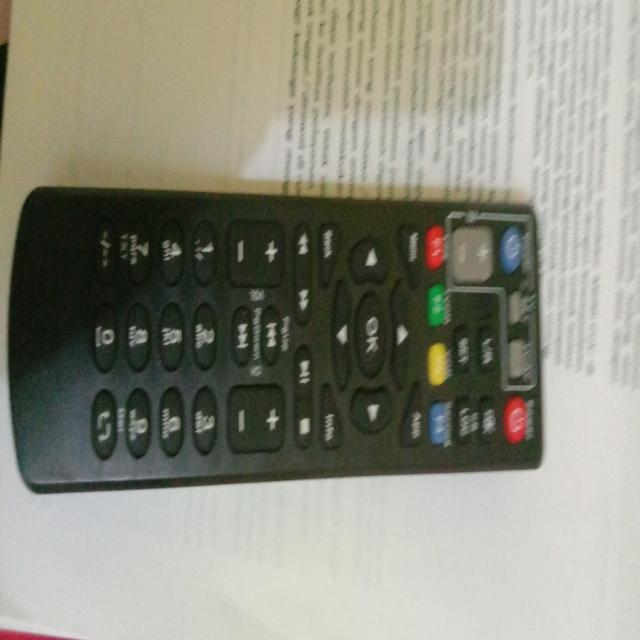remote: (5, 187, 545, 497)
